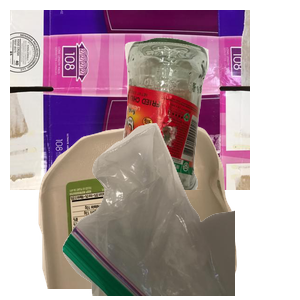cardboard: (10, 10, 250, 190)
glass: (112, 35, 300, 215)
plastic: (36, 120, 265, 300)
trash: (60, 120, 300, 300)
